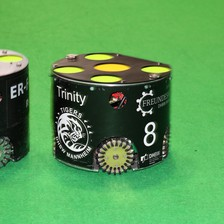robot: (45, 47, 172, 176), (1, 47, 31, 169)
